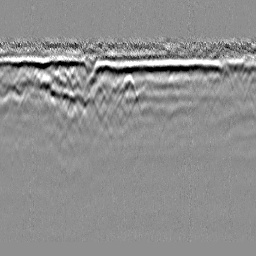cavity: (119, 74, 138, 101)
